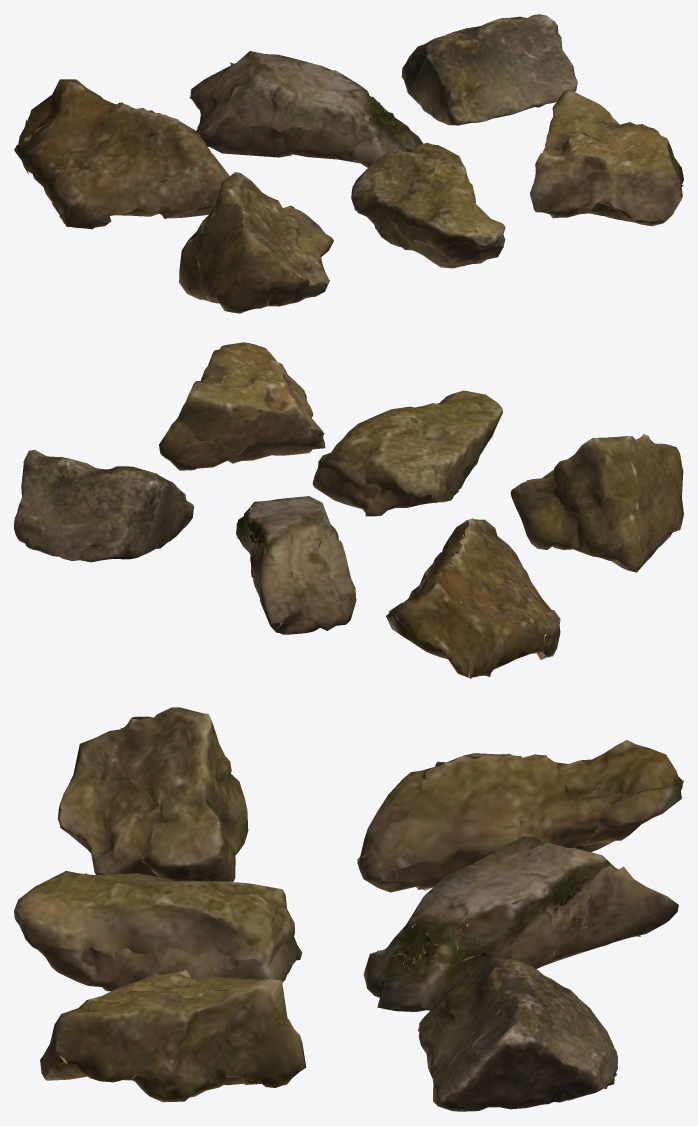
The model's file is rock_moss_set_01.glb.
3 renders of one model, top to bottom at view 1: azimuth 30°, elevation 25°; view 2: azimuth 150°, elevation 25°; view 3: azimuth 270°, elevation 25°, orthographic. The views are drawn at different scales.
Parts seen in each view (by area): view 1: rock_moss_set_01_rock01, rock_moss_set_01_rock02, rock_moss_set_01_rock06, rock_moss_set_01_rock04, rock_moss_set_01_rock03, rock_moss_set_01_rock05; view 2: rock_moss_set_01_rock04, rock_moss_set_01_rock01, rock_moss_set_01_rock05, rock_moss_set_01_rock03, rock_moss_set_01_rock06, rock_moss_set_01_rock02; view 3: rock_moss_set_01_rock01, rock_moss_set_01_rock02, rock_moss_set_01_rock05, rock_moss_set_01_rock04, rock_moss_set_01_rock06, rock_moss_set_01_rock03.
Part boxes in pixels (left/top/right/bottom): rock_moss_set_01_rock01: left=14, top=79, right=229, bottom=229; rock_moss_set_01_rock02: left=189, top=51, right=423, bottom=167; rock_moss_set_01_rock06: left=530, top=89, right=683, bottom=226; rock_moss_set_01_rock04: left=179, top=172, right=333, bottom=313; rock_moss_set_01_rock03: left=401, top=14, right=577, bottom=125; rock_moss_set_01_rock05: left=351, top=142, right=505, bottom=268; rock_moss_set_01_rock04: left=510, top=434, right=683, bottom=572; rock_moss_set_01_rock01: left=386, top=518, right=560, bottom=678; rock_moss_set_01_rock05: left=312, top=390, right=502, bottom=516; rock_moss_set_01_rock03: left=14, top=449, right=194, bottom=562; rock_moss_set_01_rock06: left=159, top=342, right=325, bottom=470; rock_moss_set_01_rock02: left=236, top=496, right=356, bottom=634; rock_moss_set_01_rock01: left=357, top=740, right=683, bottom=892; rock_moss_set_01_rock02: left=363, top=836, right=678, bottom=1011; rock_moss_set_01_rock05: left=14, top=871, right=302, bottom=991; rock_moss_set_01_rock04: left=57, top=707, right=248, bottom=881; rock_moss_set_01_rock06: left=40, top=970, right=306, bottom=1102; rock_moss_set_01_rock03: left=417, top=956, right=617, bottom=1111.
Bounding box in the file's own units: 7.99 × 1.77 × 6.95.
Materials: 1 (1 with a texture image).
